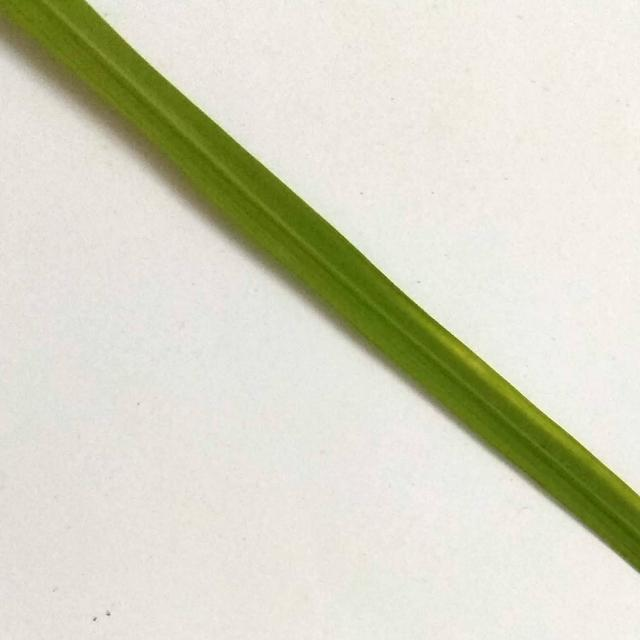Rice_Healthy: (0, 0, 640, 570)
